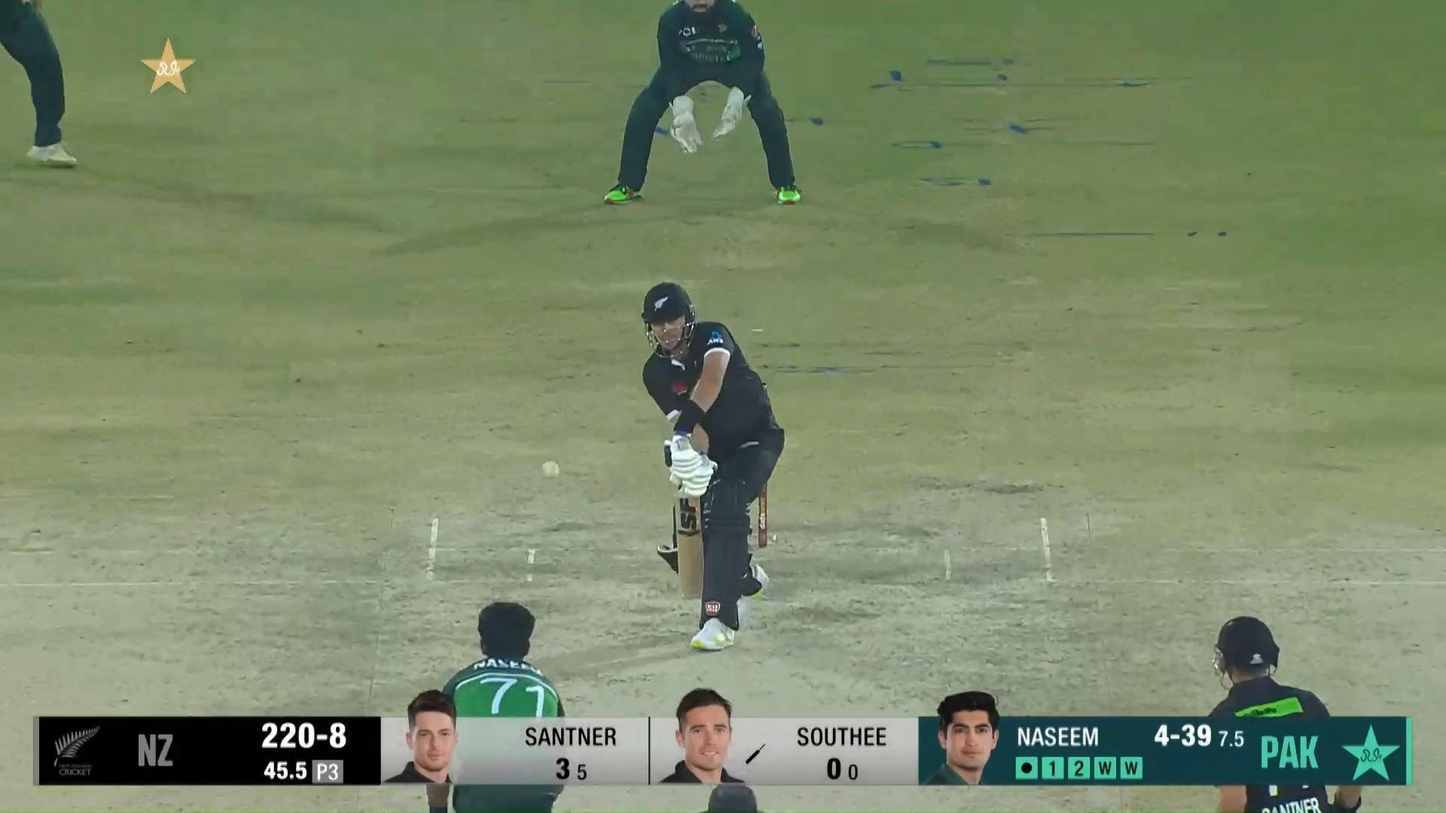BM 1: (642, 281, 786, 652)
BO: (425, 601, 571, 813)
